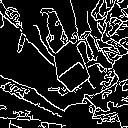cube: (52, 41, 91, 94)
